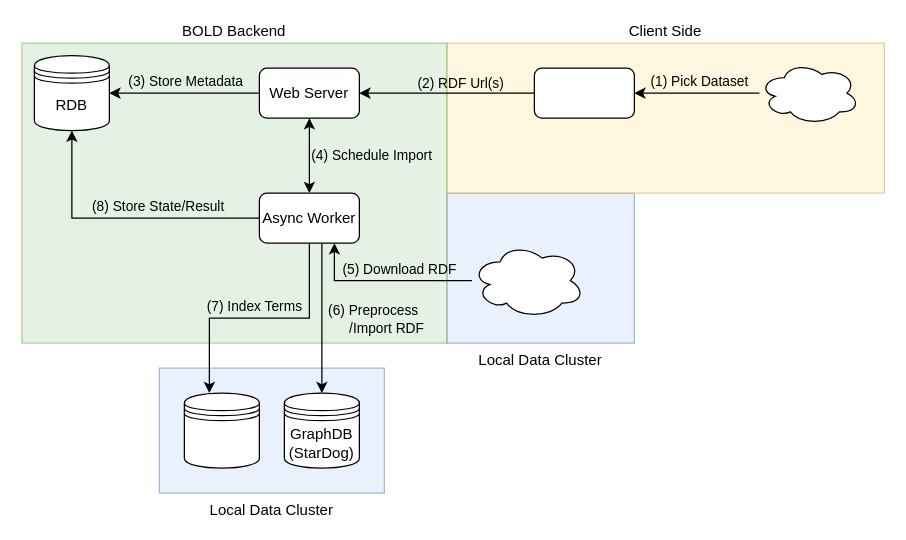
The diagram is 906 pixels wide and 540 high, and some of its shapes have lost their labels. The centre of each missing label's shape, as x and y in pixels:
"Frontend" goes at point (583, 92).
"LODC" goes at point (808, 92).
"RDF Source" goes at point (527, 280).
"Search DB (tantivy)" goes at point (221, 430).
